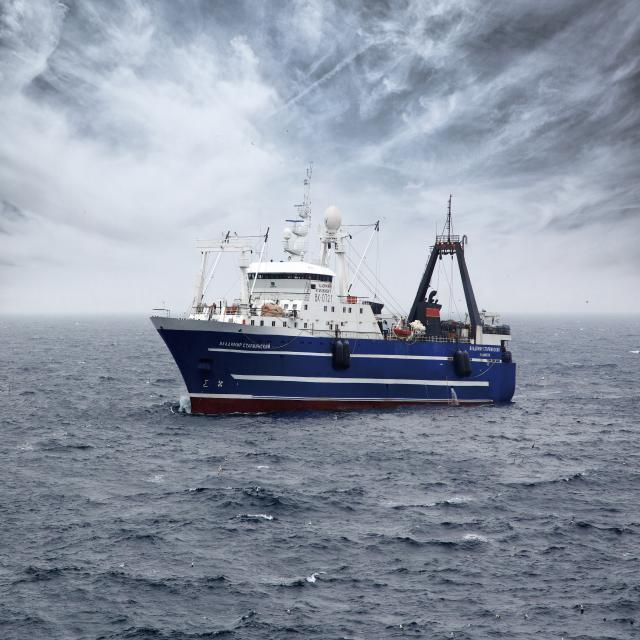Ship: (147, 151, 527, 429)
